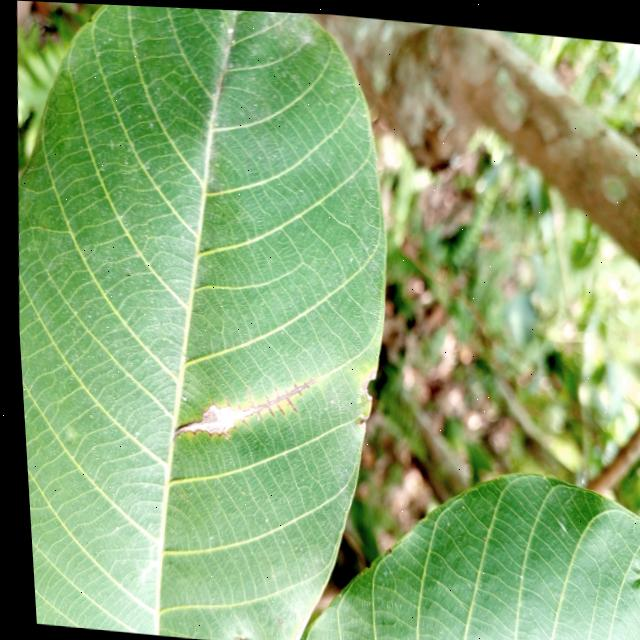Corynespora: (164, 365, 316, 451)
Leaf-Blight: (245, 601, 307, 640)
